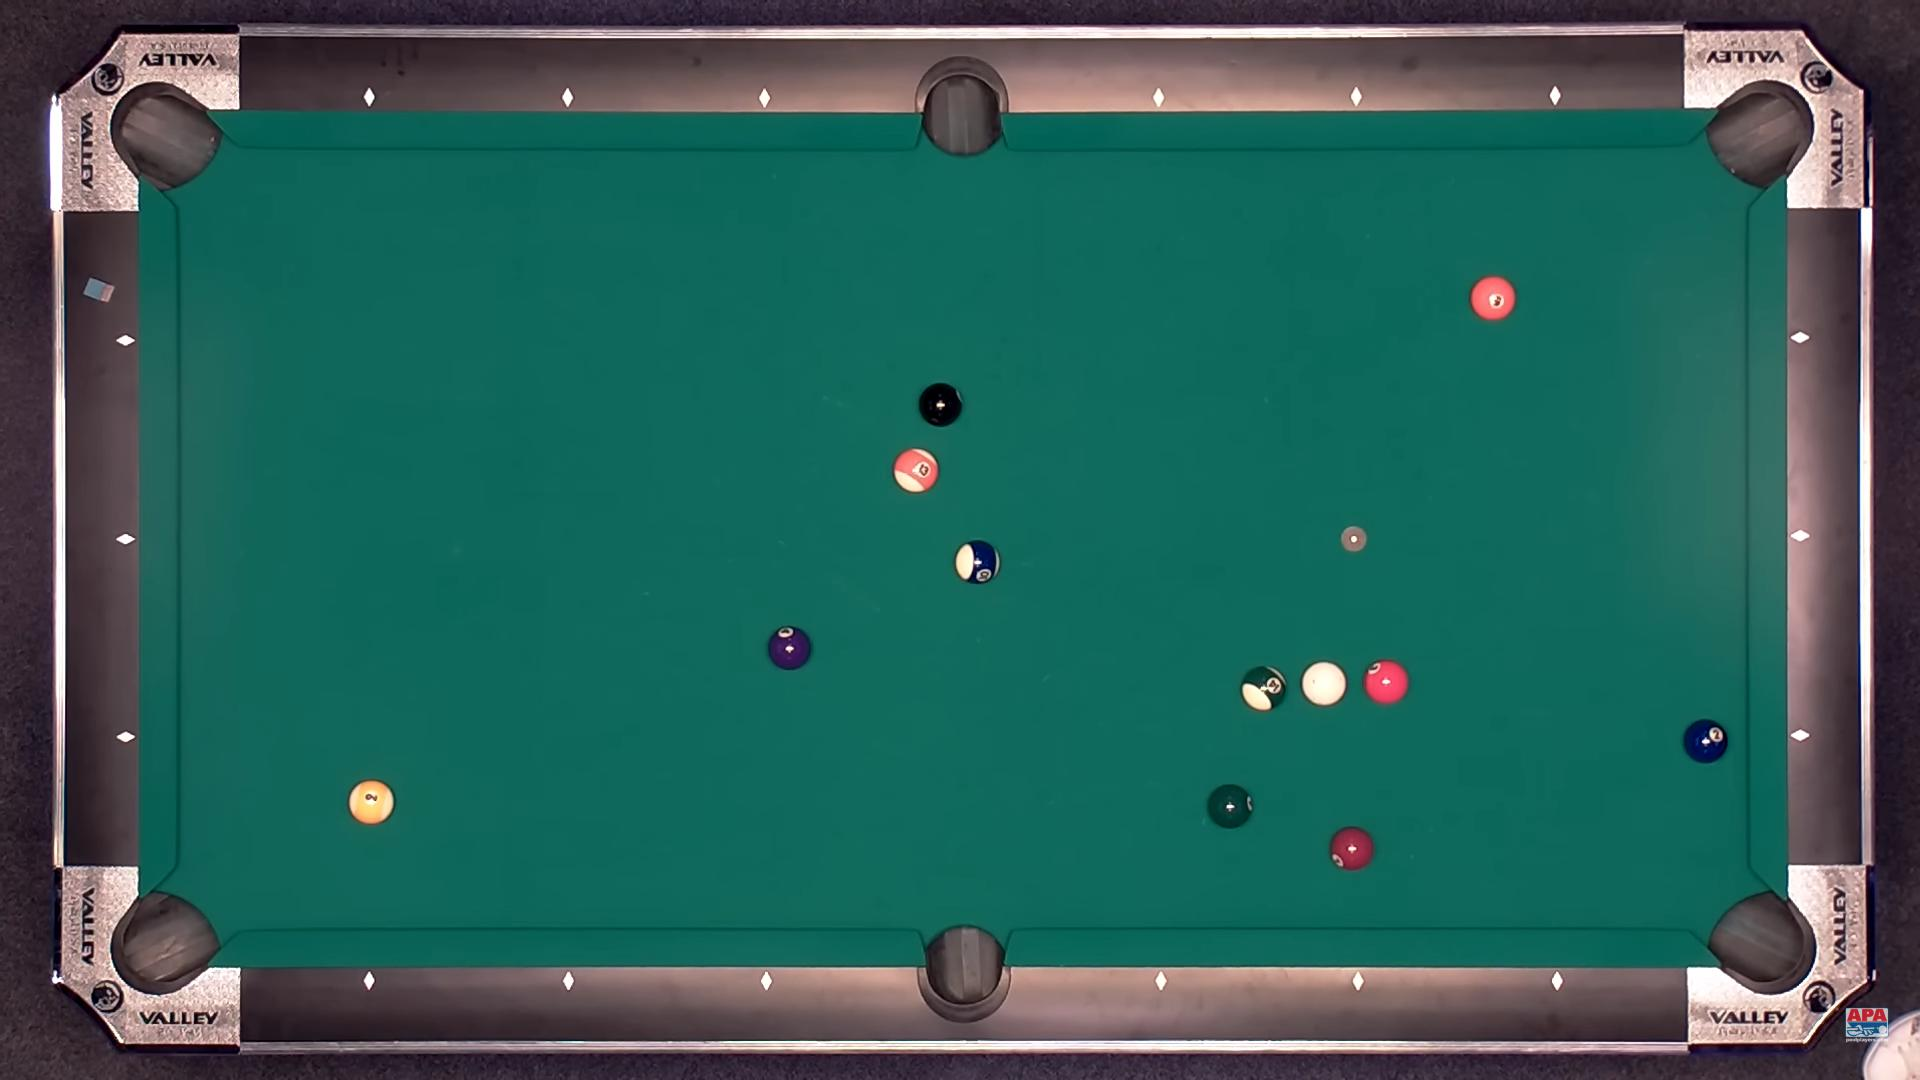Black: (919, 384, 963, 427)
Cue: (1302, 662, 1346, 707)
Dot: (560, 91, 575, 105), (757, 91, 771, 105), (1548, 88, 1563, 103), (1549, 975, 1564, 989), (1352, 976, 1366, 990), (117, 729, 132, 744), (363, 91, 377, 104), (1151, 92, 1166, 105), (1350, 90, 1364, 104), (1793, 531, 1808, 545), (1793, 729, 1807, 744), (1153, 976, 1167, 989), (757, 975, 771, 988), (361, 975, 375, 989), (120, 531, 133, 546), (1793, 331, 1807, 344), (562, 975, 575, 988), (120, 334, 133, 347)
Solid: (1683, 719, 1727, 764), (1472, 276, 1516, 320), (1329, 827, 1374, 872), (1364, 659, 1408, 703), (1208, 785, 1251, 828), (769, 626, 811, 670)
Striped: (1241, 666, 1287, 711), (893, 447, 939, 492), (348, 781, 394, 825), (956, 539, 1001, 584)
